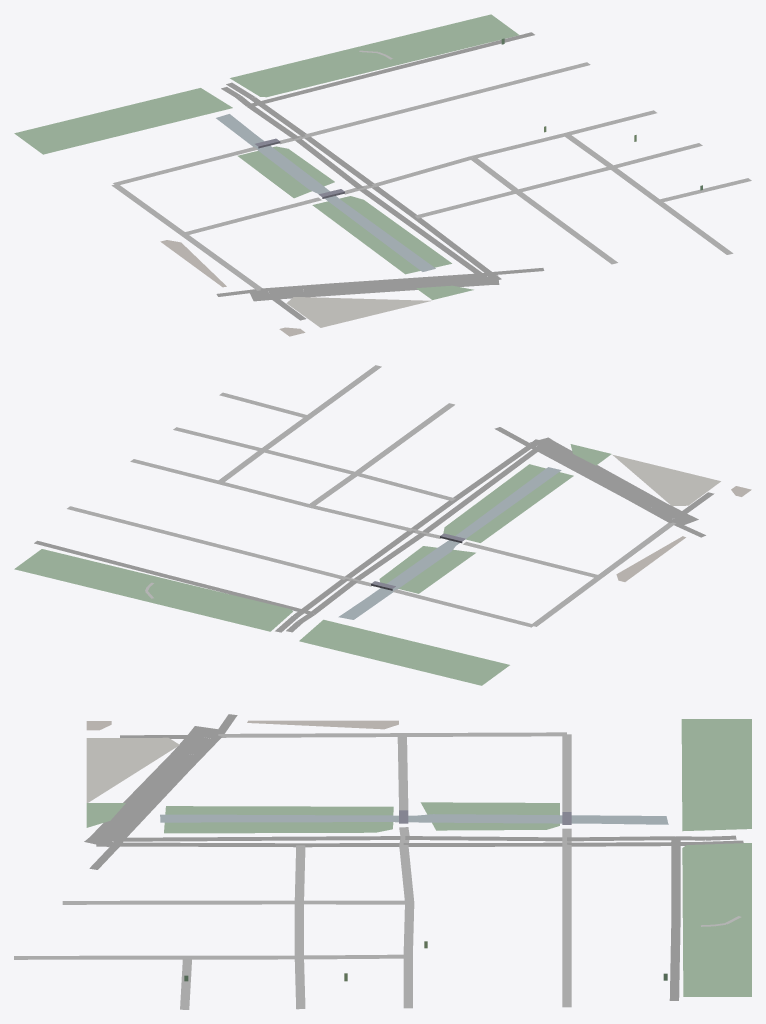
The picture shows the model from 3 angles, top to bottom: view 1: azimuth 30°, elevation 25°; view 2: azimuth 150°, elevation 25°; view 3: azimuth 270°, elevation 25°; orthographic projection. The views are drawn at different scales.
Bounding box in the file's own units: 538 × 12.78 × 555.
